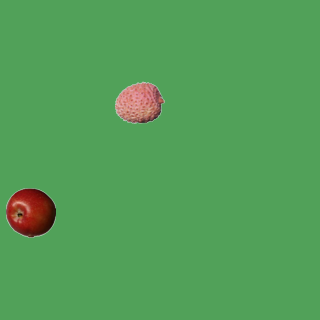Apple Braeburn: (5, 187, 55, 237)
Lychee: (114, 77, 164, 127)
